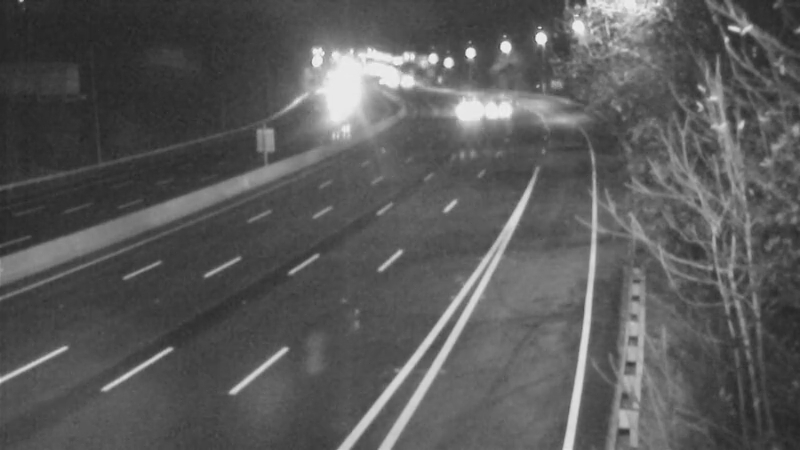vehicle: (378, 56, 428, 106), (434, 80, 484, 130), (476, 81, 526, 131)
